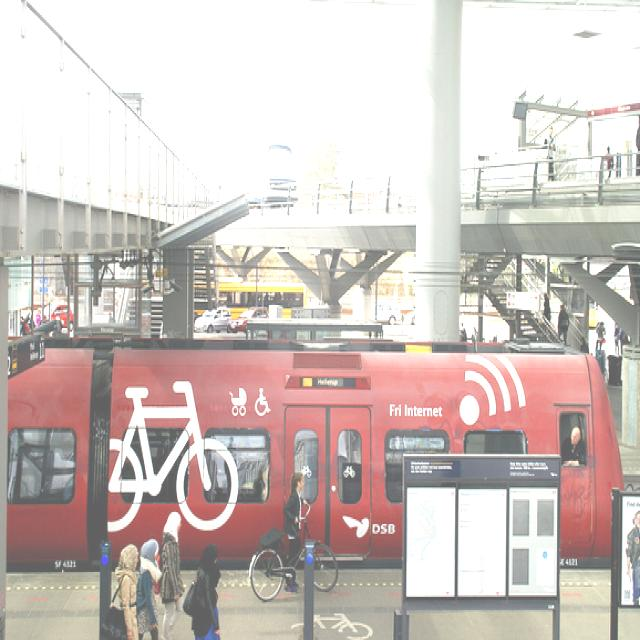Vehicle: (218, 276, 306, 321), (194, 307, 232, 334), (232, 306, 271, 330), (44, 303, 74, 332), (406, 312, 416, 322)
